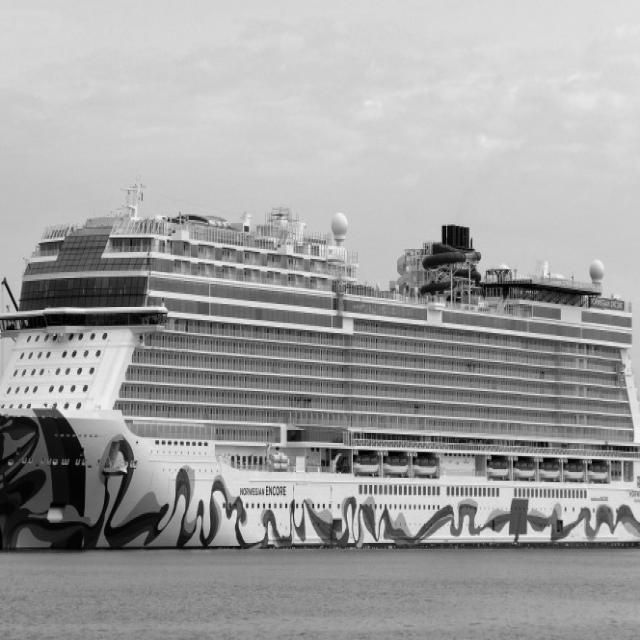cruises: (1, 178, 640, 564)
